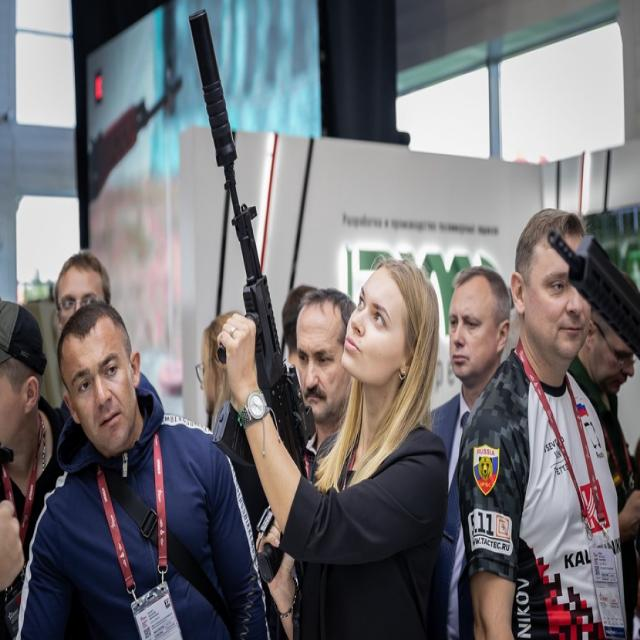firearm: (190, 11, 316, 480), (546, 229, 640, 351)
